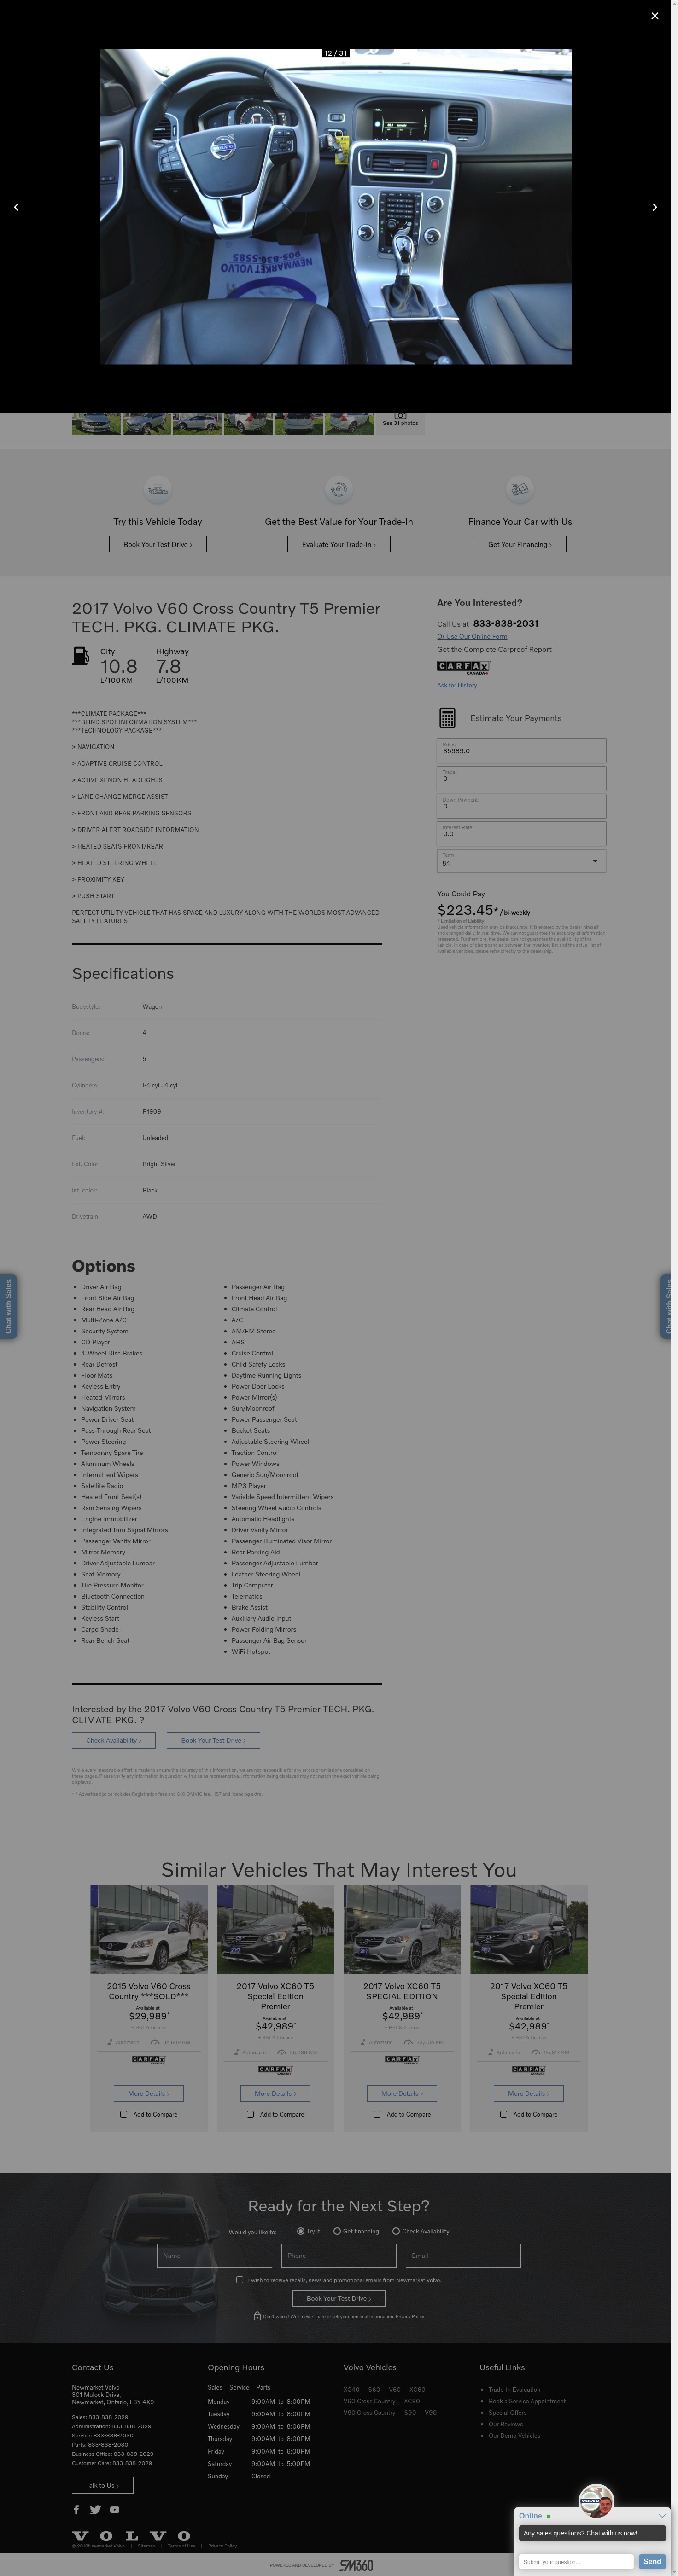car: (652, 202, 658, 214)
